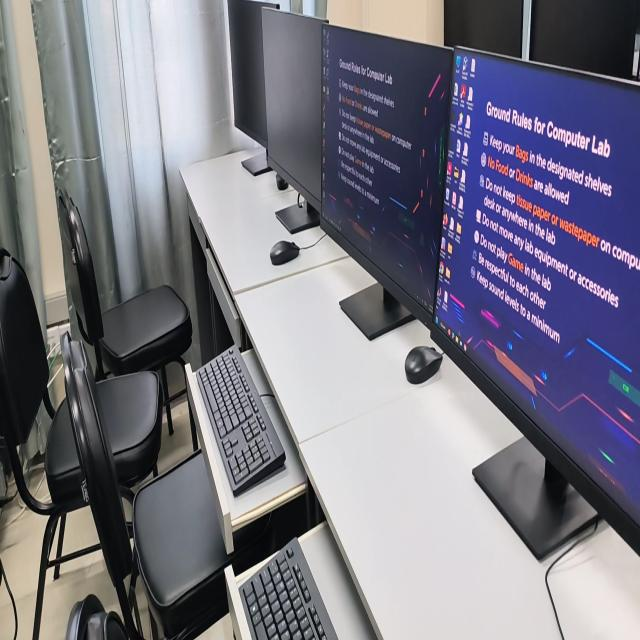Chair: (61, 339, 230, 639), (0, 248, 89, 637), (57, 191, 192, 434), (87, 359, 164, 501), (65, 594, 127, 639)
Keyboard: (196, 345, 286, 497), (236, 536, 337, 639)
Monitor: (431, 47, 640, 560), (321, 24, 451, 340), (261, 8, 322, 233), (228, 0, 279, 175), (529, 0, 640, 79), (444, 0, 522, 57)
Mouse: (405, 345, 442, 384), (270, 240, 300, 265), (276, 174, 288, 190)
